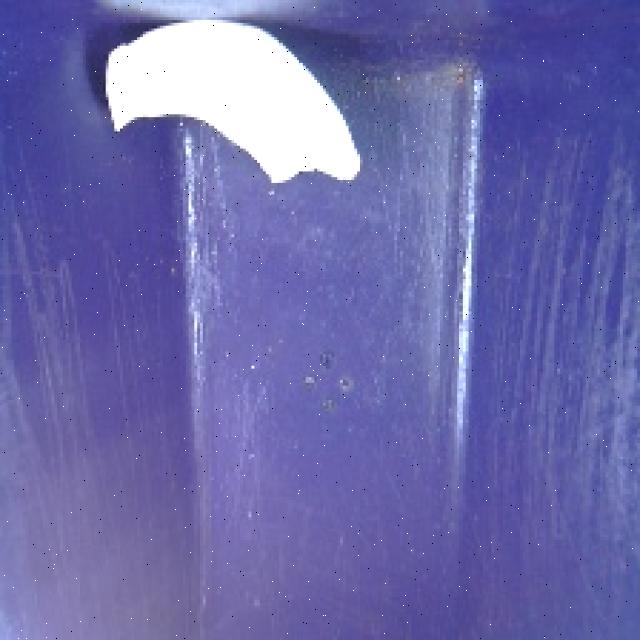china: (97, 10, 370, 202)
